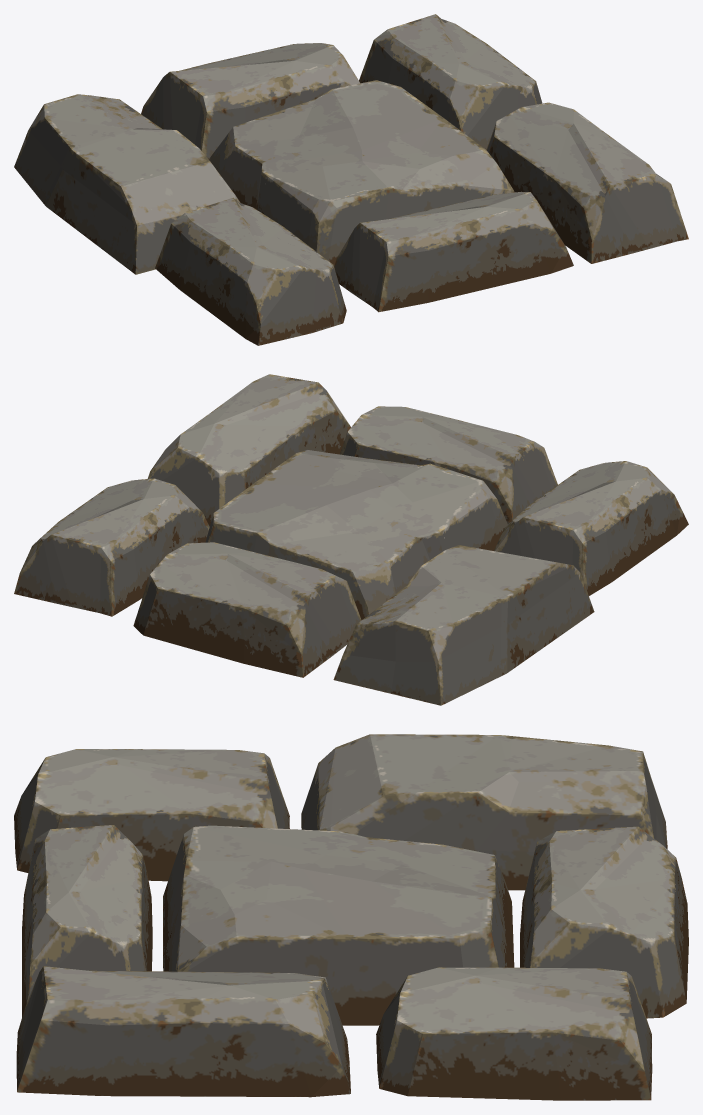
Rendered from RockPath_Square_Small_2__go_coast.glb.
3 views of the same model, one above another, from view 1: azimuth 30°, elevation 25°; view 2: azimuth 150°, elevation 25°; view 3: azimuth 270°, elevation 25° (orthographic). The views are drawn at different scales.
Parts seen in each view (by area): view 1: RockPath_Square_Small_2; view 2: RockPath_Square_Small_2; view 3: RockPath_Square_Small_2.
Part boxes in pixels (x1,y1,x2,y2): RockPath_Square_Small_2: (14,14,688,345); RockPath_Square_Small_2: (14,374,688,705); RockPath_Square_Small_2: (14,734,688,1100).
Bounding box in the file's own units: 0.9927 × 0.1493 × 0.9661.
Materials: 1 (1 with a texture image).
